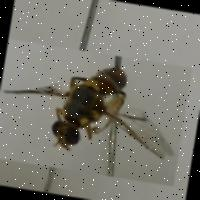Oriental-fruit-fly: (0, 38, 192, 186)
